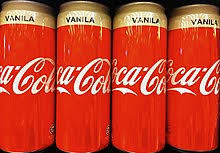coke-can: (110, 2, 168, 149), (55, 4, 111, 148), (1, 3, 50, 152), (168, 5, 218, 150)
